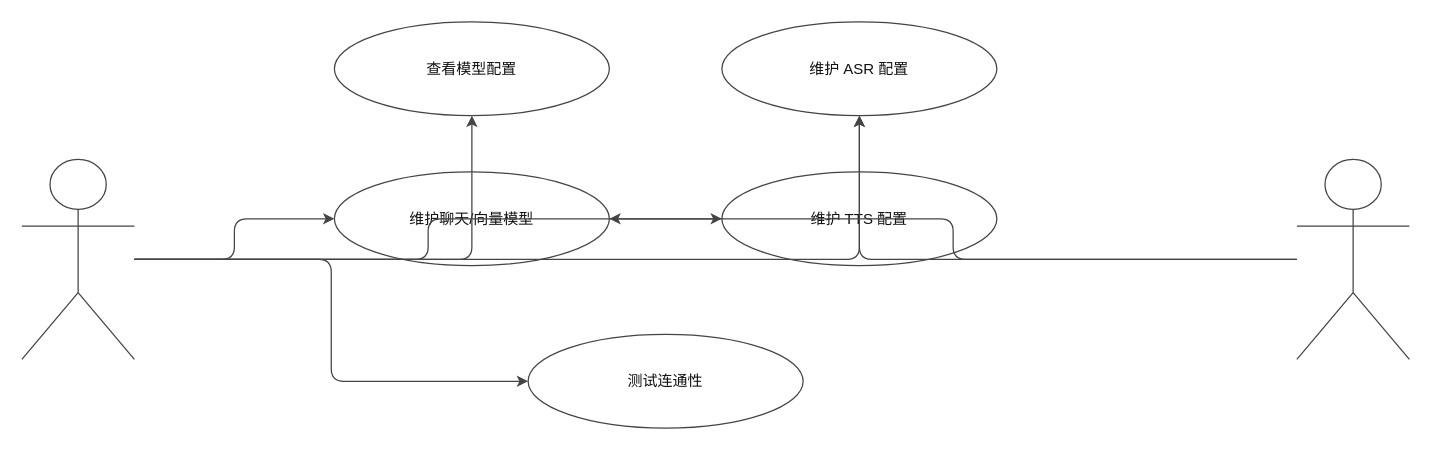
Image size: 1431x450. Some labels were removed from this diagram. Here are the shapes that lost their labels. From the top down, the box of each, then its label:
(21, 158, 134, 359): 系统维护人员
(1296, 158, 1409, 359): 外部模型服务
